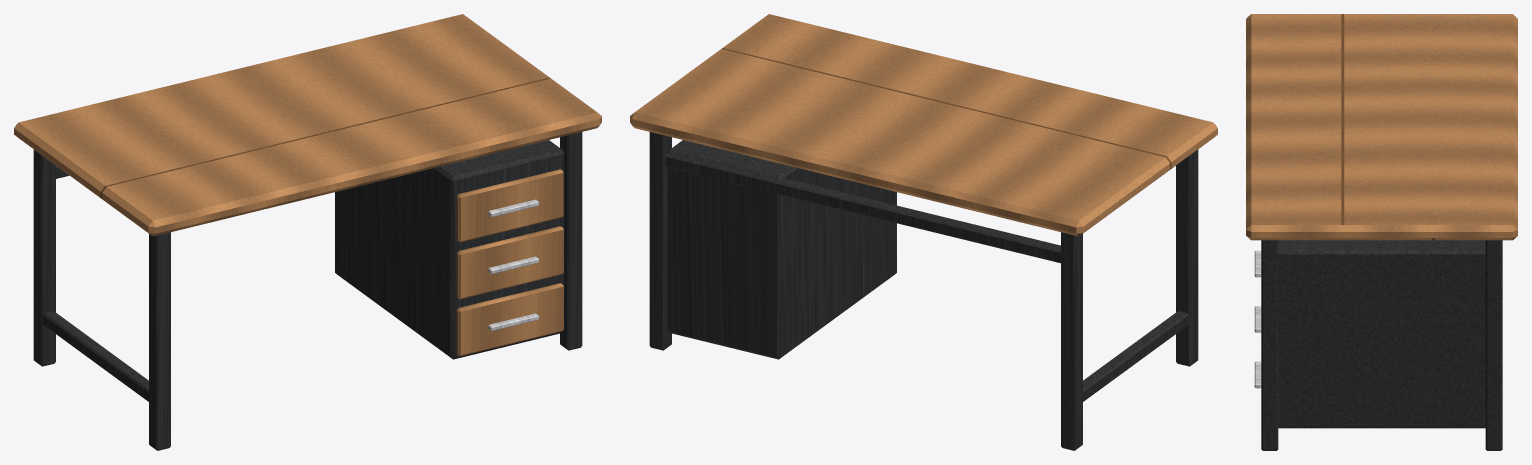
The model's file is 01_Escritorio_Oficina.obj.
3 renders of one model, left to right at view 1: azimuth 30°, elevation 25°; view 2: azimuth 150°, elevation 25°; view 3: azimuth 270°, elevation 25°, orthographic. The views are drawn at different scales.
Visible parts, largest first — view 1: 01_Escritorio_Oficina; view 2: 01_Escritorio_Oficina; view 3: 01_Escritorio_Oficina.
Part boxes in pixels (x1,y1,x2,y2): 01_Escritorio_Oficina: (14,14,601,450); 01_Escritorio_Oficina: (630,14,1217,450); 01_Escritorio_Oficina: (1246,14,1517,450).
Bounding box in the file's own units: 1.5 × 0.75 × 0.8.
